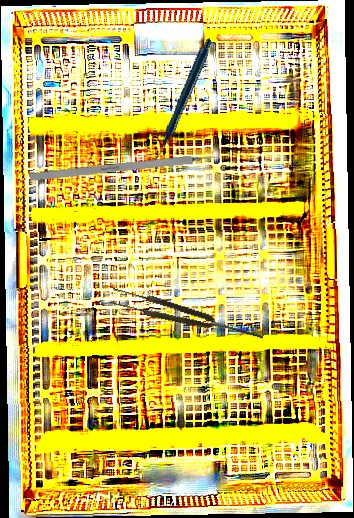Handpiece: (113, 37, 249, 161)
Hook Surgical: (29, 151, 232, 182)
Tissue Forceps: (108, 285, 266, 348)
